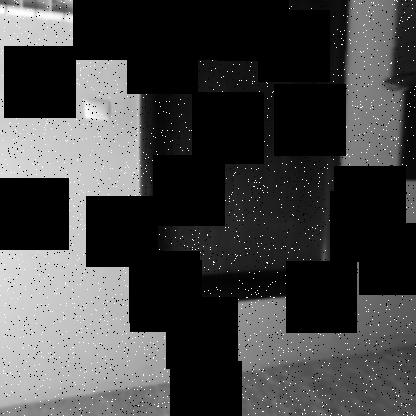Porte: (138, 1, 354, 312)
